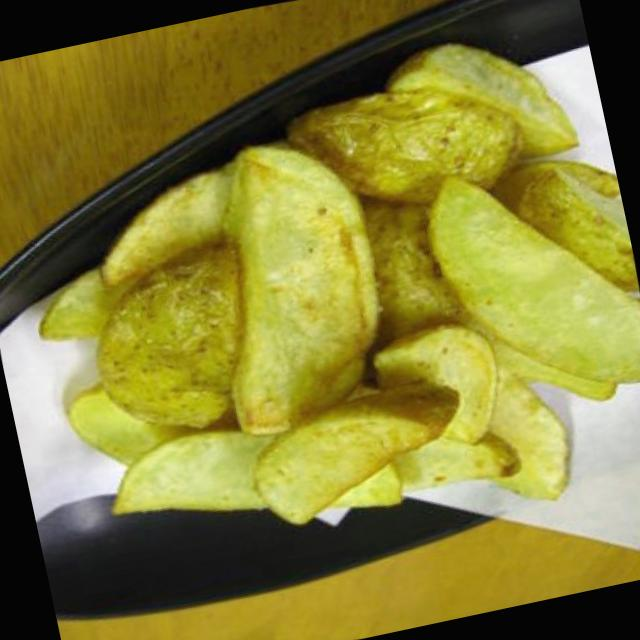French Fries: (17, 28, 640, 605)
